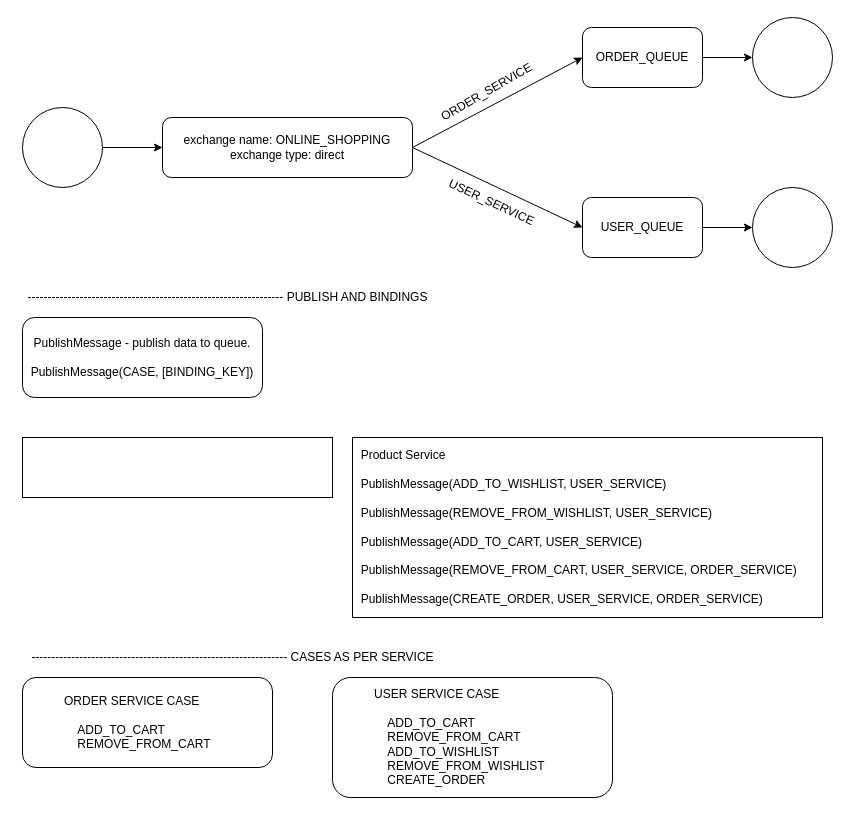
Image size: 850x815. Some labels were removed from this diagram. The shapes that lost their labels are listed below. From the top down, each one's centre as x and y in pixels, then its label:
(792,57): consumer O
(62,147): producer
(792,227): consumer U
(177,467): Order Service PublishMessage(CREATE_ORDER, USER_SERVICE)
